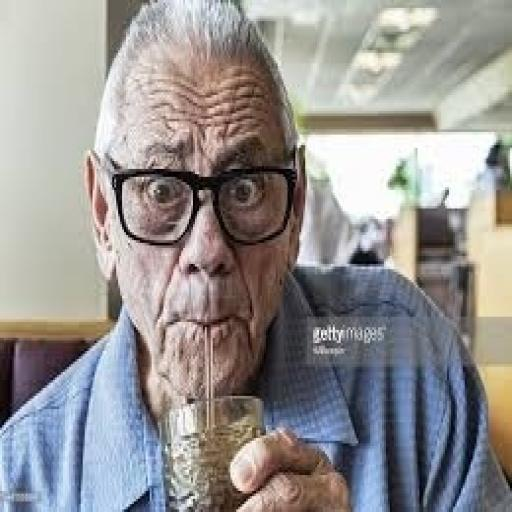drinking: (161, 390, 264, 510)
